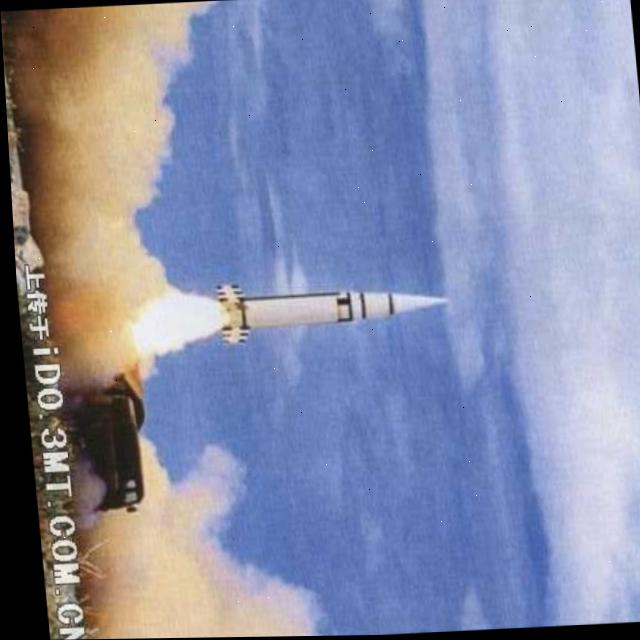missile: (187, 275, 452, 352)
